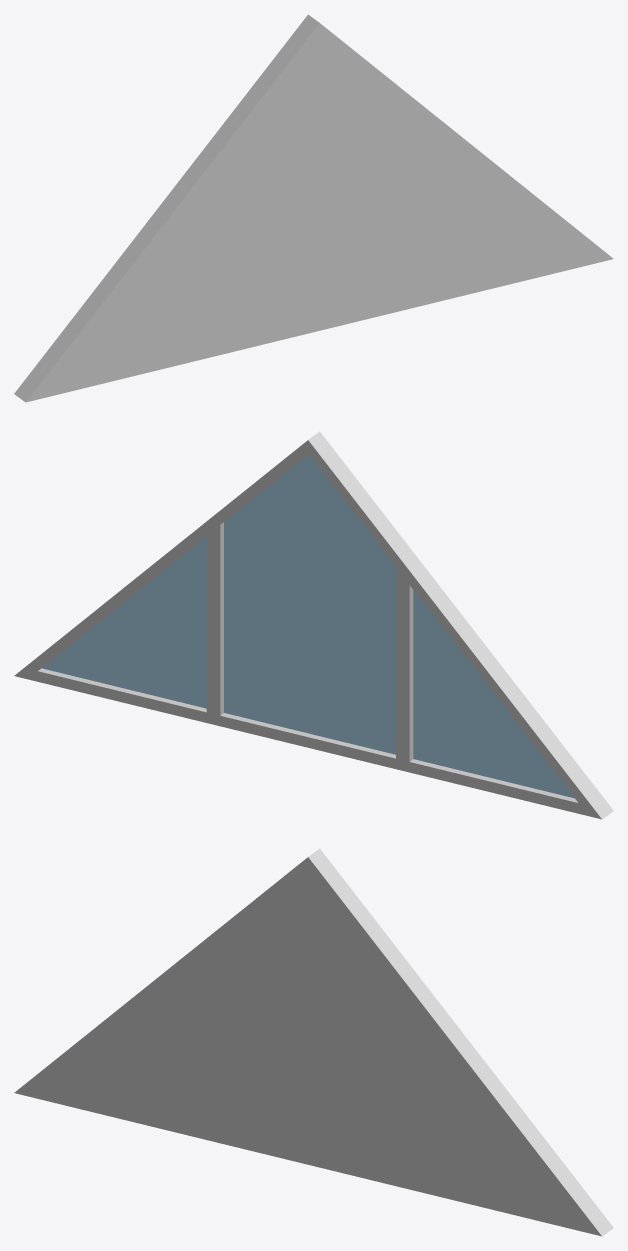
File: ThreeRoofFrontWindow.fbx
The picture shows the model from 3 angles, top to bottom: view 1: azimuth 30°, elevation 25°; view 2: azimuth 150°, elevation 25°; view 3: azimuth 330°, elevation 25°; orthographic projection.
Parts seen in each view (by area): view 1: ThreeRoofFrontWindow; view 2: ThreeRoofFrontWindow; view 3: ThreeRoofFrontWindow.
Part boxes in pixels (x1,y1,x2,y2): ThreeRoofFrontWindow: (14, 14, 613, 402); ThreeRoofFrontWindow: (14, 431, 613, 819); ThreeRoofFrontWindow: (14, 848, 613, 1236).
Bounding box in the file's own units: 870 × 435 × 30.
